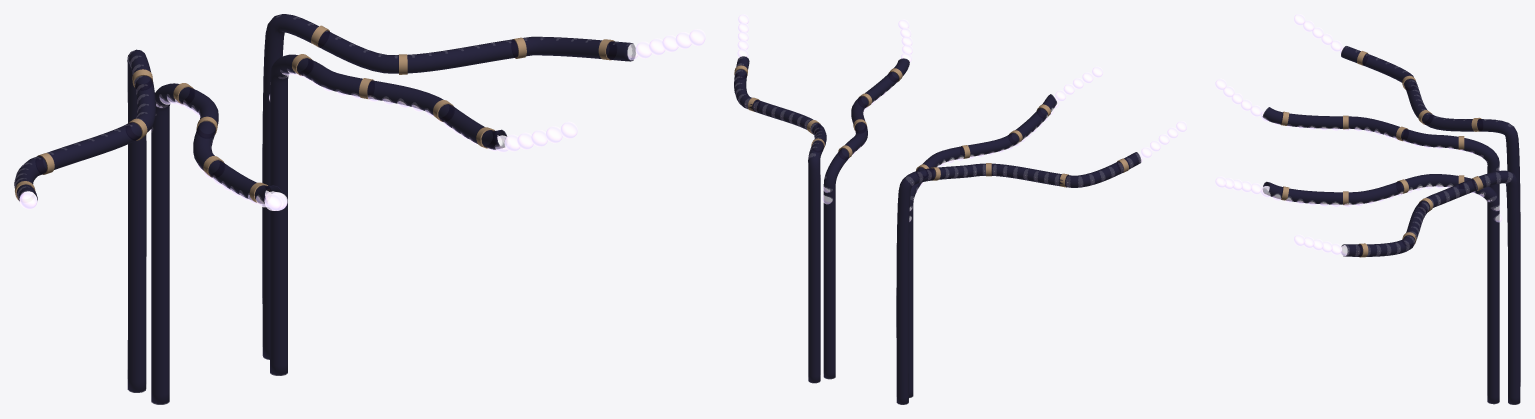
The model's file is Mountain Orb Tubes.fbx.
The picture shows the model from 3 angles, left to right: view 1: azimuth 30°, elevation 25°; view 2: azimuth 150°, elevation 25°; view 3: azimuth 270°, elevation 25°; orthographic projection. The views are drawn at different scales.
Parts seen in each view (by area): view 1: Orb Tube_Outer, Orb Tube_Inner, Orbs_inner.001, Orbs_outer; view 2: Orb Tube_Outer, Orb Tube_Inner, Orbs_inner.001, Orbs_outer; view 3: Orb Tube_Outer, Orb Tube_Inner, Orbs_inner.001, Orbs_outer.
Part boxes in pixels (<box>): Orb Tube_Outer: <box>14,14,635,392</box>; Orb Tube_Inner: <box>151,54,507,404</box>; Orbs_inner.001: <box>150,70,577,210</box>; Orbs_outer: <box>15,29,705,209</box>; Orb Tube_Outer: <box>734,56,1141,404</box>; Orb Tube_Inner: <box>823,58,1056,397</box>; Orbs_inner.001: <box>822,19,1103,221</box>; Orbs_outer: <box>735,14,1186,185</box>; Orb Tube_Outer: <box>1341,46,1520,404</box>; Orb Tube_Inner: <box>1262,107,1499,404</box>; Orbs_inner.001: <box>1215,78,1502,222</box>; Orbs_outer: <box>1294,14,1510,256</box>.
Size of the model in its own units: 46.11 by 24.54 by 26.41.
